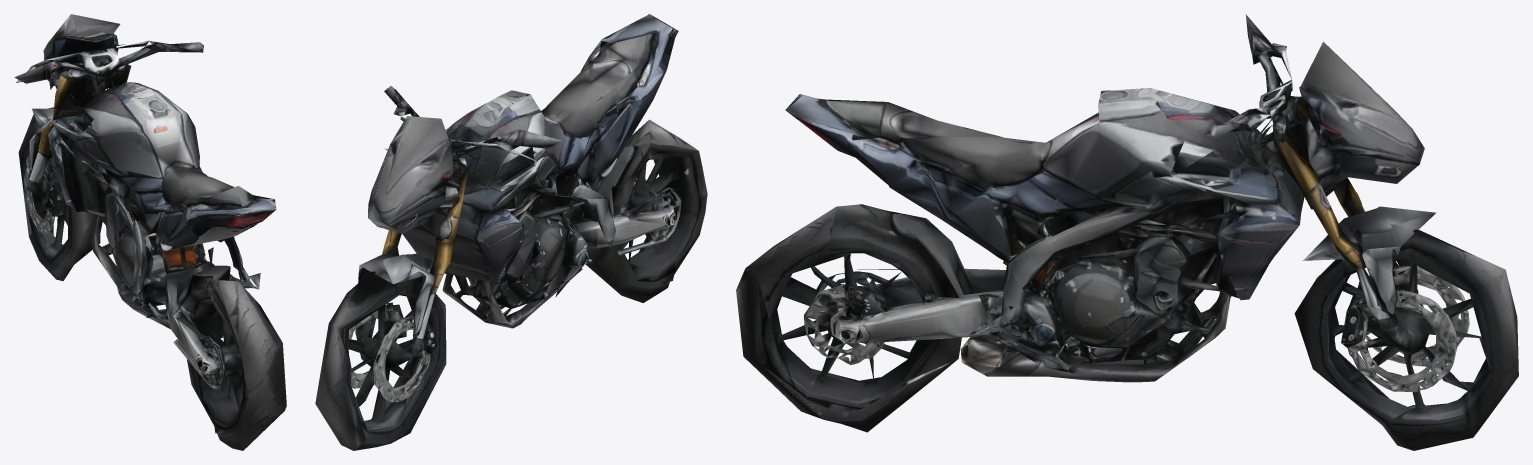
Rendered from onyx_loin.glb.
The picture shows the model from 3 angles, left to right: view 1: azimuth 30°, elevation 25°; view 2: azimuth 150°, elevation 25°; view 3: azimuth 270°, elevation 25°; orthographic projection. The views are drawn at different scales.
Parts seen in each view (by area): view 1: body, wheel_r, wheel_f; view 2: body, wheel_f, wheel_r; view 3: body, wheel_r, wheel_f.
Part boxes in pixels (x1,y1,x2,y2): body: (14,14,282,429); wheel_r: (176,298,286,450); wheel_f: (24,140,100,279); body: (315,14,707,450); wheel_f: (348,291,446,446); wheel_r: (613,153,707,302); body: (736,14,1518,450); wheel_r: (736,249,946,432); wheel_f: (1294,258,1469,412).
Size of the model in its own units: 0.7435 by 1.17 by 2.1.
Materials: 1 (1 with a texture image).
